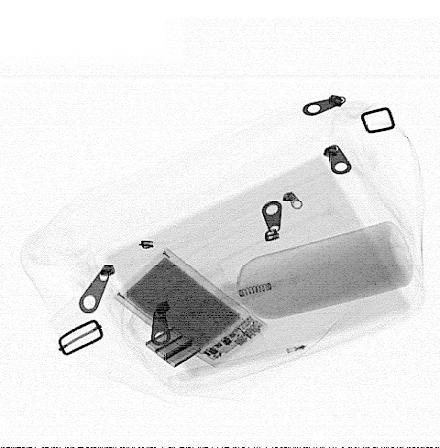Powerbank: (115, 248, 269, 371)
